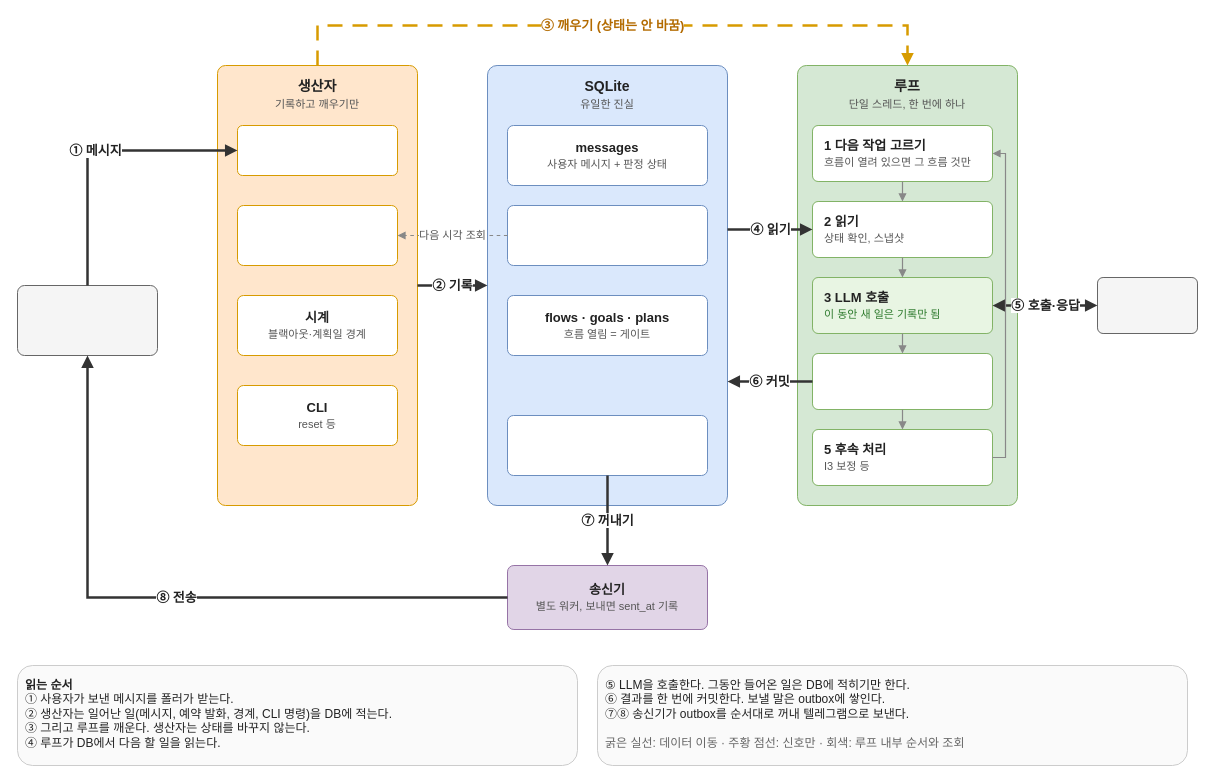
Some shapes in this 1215 by 783 pixel diagram are drawn without their labels. The centre of each missing label's shape, as x and y in pixels:
"4 커밋 상태 갱신 + outbox 적재" belongs at pixel 902 381.
"LLM API" belongs at pixel 1147 305.
"outbox 보낼 메시지 줄" belongs at pixel 607 445.
"reservations continue · open · fired" belongs at pixel 607 235.
"타이머 가장 이른 예약 1개 대기" belongs at pixel 317 235.
"텔레그램 사용자" belongs at pixel 87 320.
"텔레그램 폴러" belongs at pixel 317 150.
